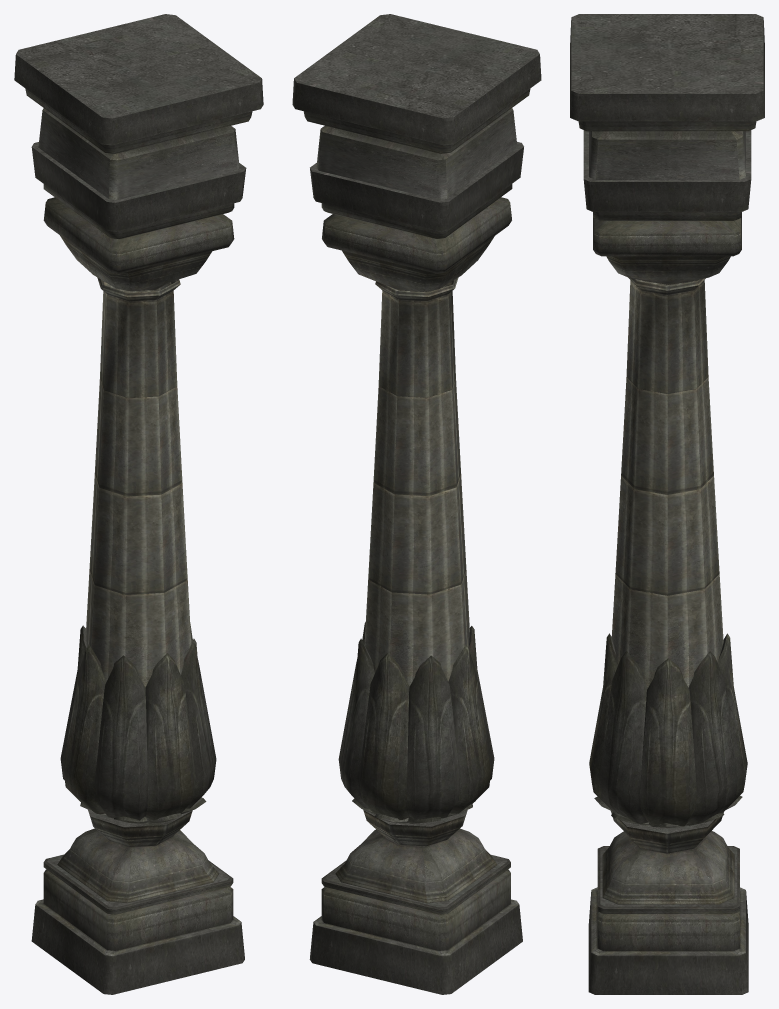
Rendered from Col.fbx.
3 views of the same model, side by side, from view 1: azimuth 30°, elevation 25°; view 2: azimuth 150°, elevation 25°; view 3: azimuth 270°, elevation 25° (orthographic). The views are drawn at different scales.
Visible parts, largest first — view 1: Col; view 2: Col; view 3: Col.
Part boxes in pixels (box(x1,y1,x2,y2)): Col: box(14, 14, 263, 994); Col: box(292, 14, 541, 994); Col: box(570, 14, 764, 994).
Size of the model in its own units: 92.84 by 485 by 94.43.
1 material, 1 textured.
